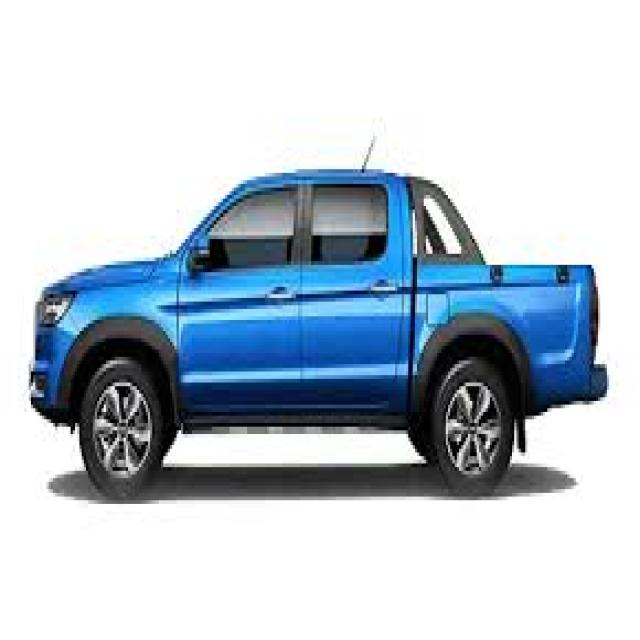Pickup Trucks: (31, 169, 609, 504)
